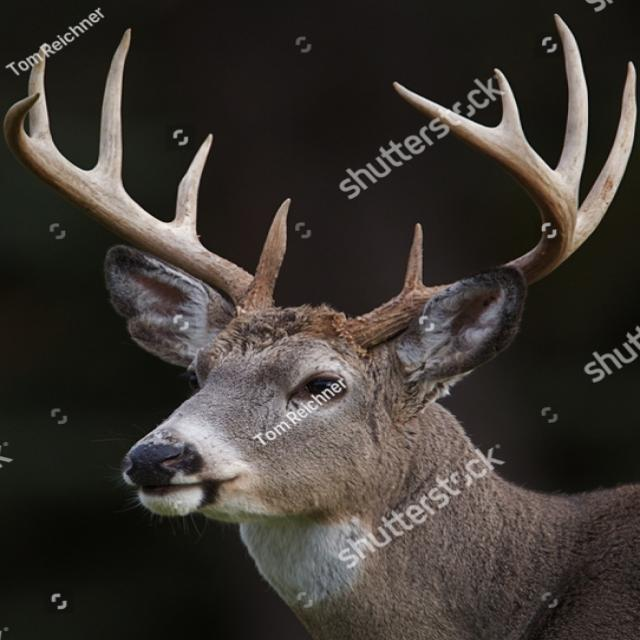L-G1: (402, 223, 426, 291)
L-G2: (572, 60, 637, 253)
L-G3: (553, 13, 588, 198)
L-G4: (492, 68, 524, 138)
R-G1: (247, 196, 292, 296)
R-G2: (169, 133, 213, 241)
R-G3: (90, 28, 132, 186)
R-G4: (28, 42, 54, 144)
